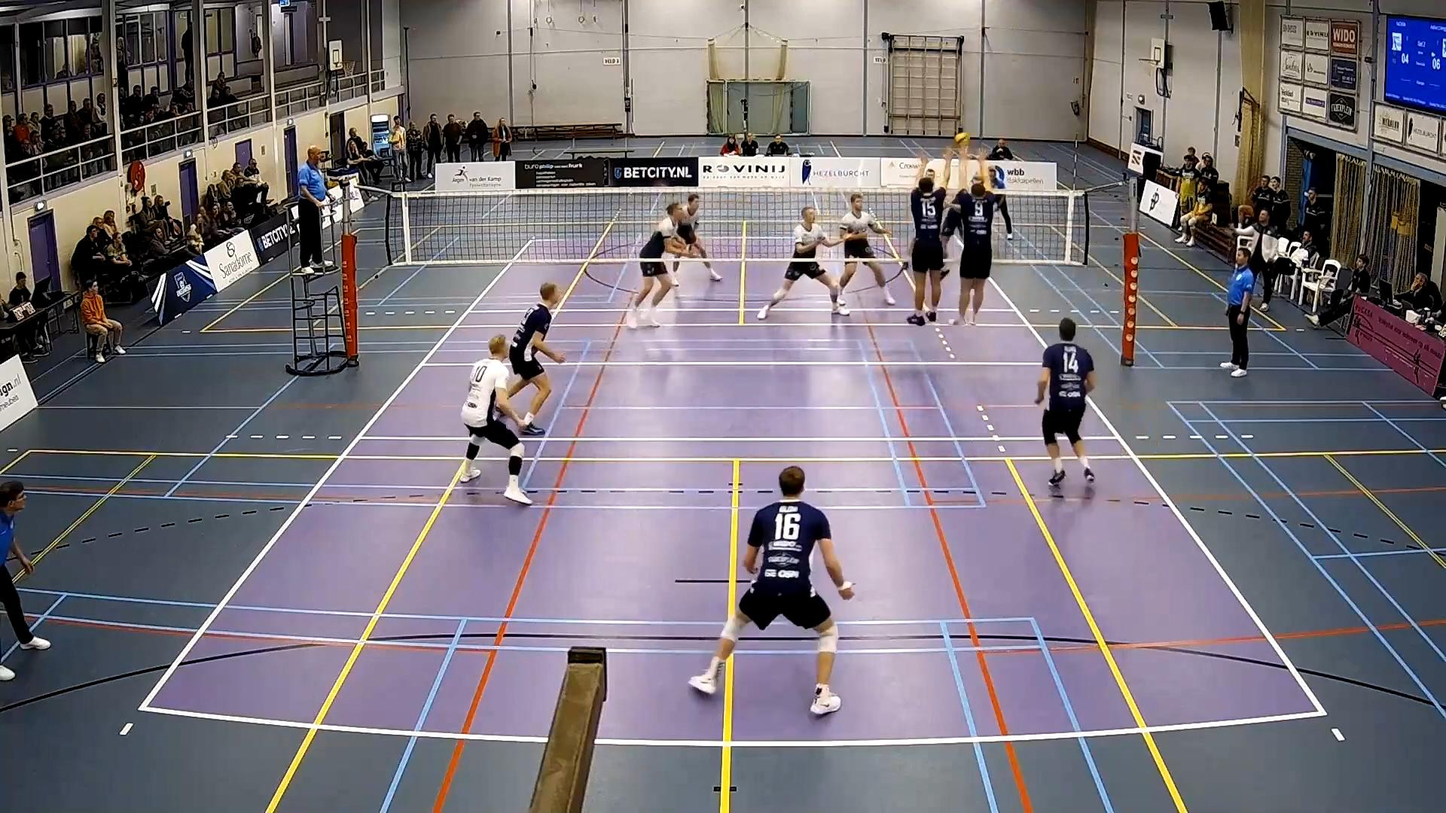muro: (907, 146, 985, 332), (940, 141, 1001, 330)
